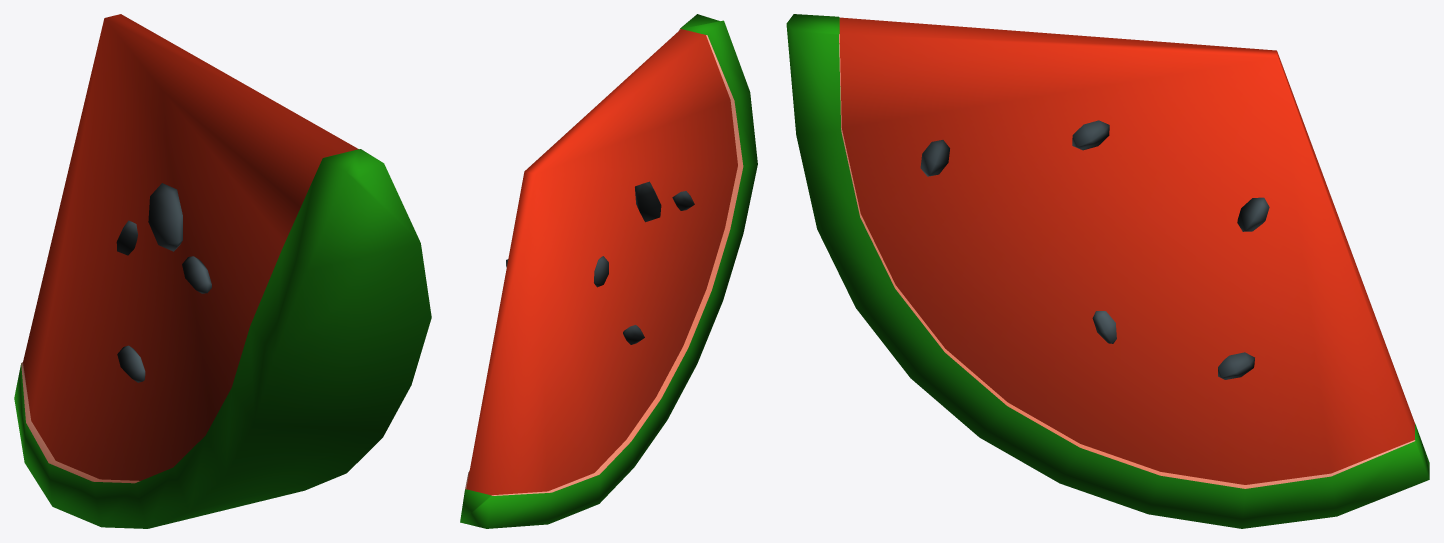
File: Watermelon peice.fbx
3 views of the same model, side by side, from view 1: azimuth 30°, elevation 25°; view 2: azimuth 150°, elevation 25°; view 3: azimuth 270°, elevation 25° (orthographic). The views are drawn at different scales.
Visible parts, largest first — view 1: WaterMelon_Peice; view 2: WaterMelon_Peice; view 3: WaterMelon_Peice.
Part boxes in pixels (bbox=[...]): WaterMelon_Peice: bbox=[14, 14, 431, 528]; WaterMelon_Peice: bbox=[460, 14, 757, 528]; WaterMelon_Peice: bbox=[786, 14, 1429, 528].
Size of the model in its own units: 17.48 by 50.89 by 63.15.
Materials: 1 (1 with a texture image).
